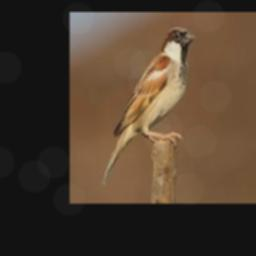Sparrow: (101, 27, 196, 186)
